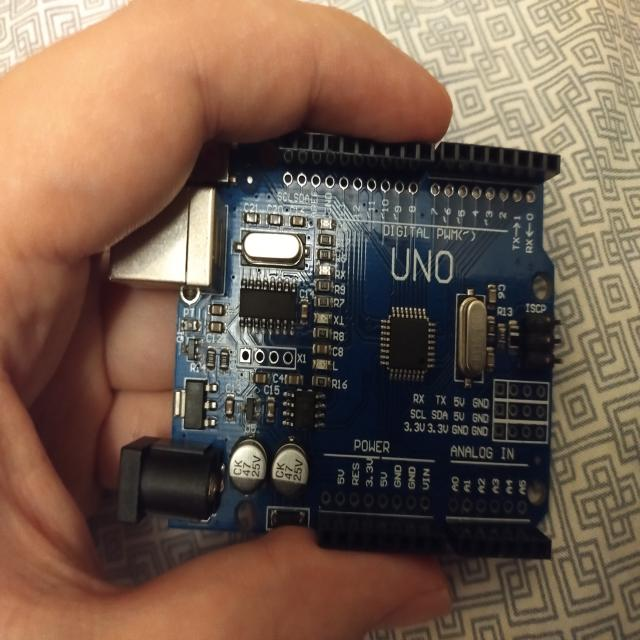arduino: (110, 108, 570, 571)
